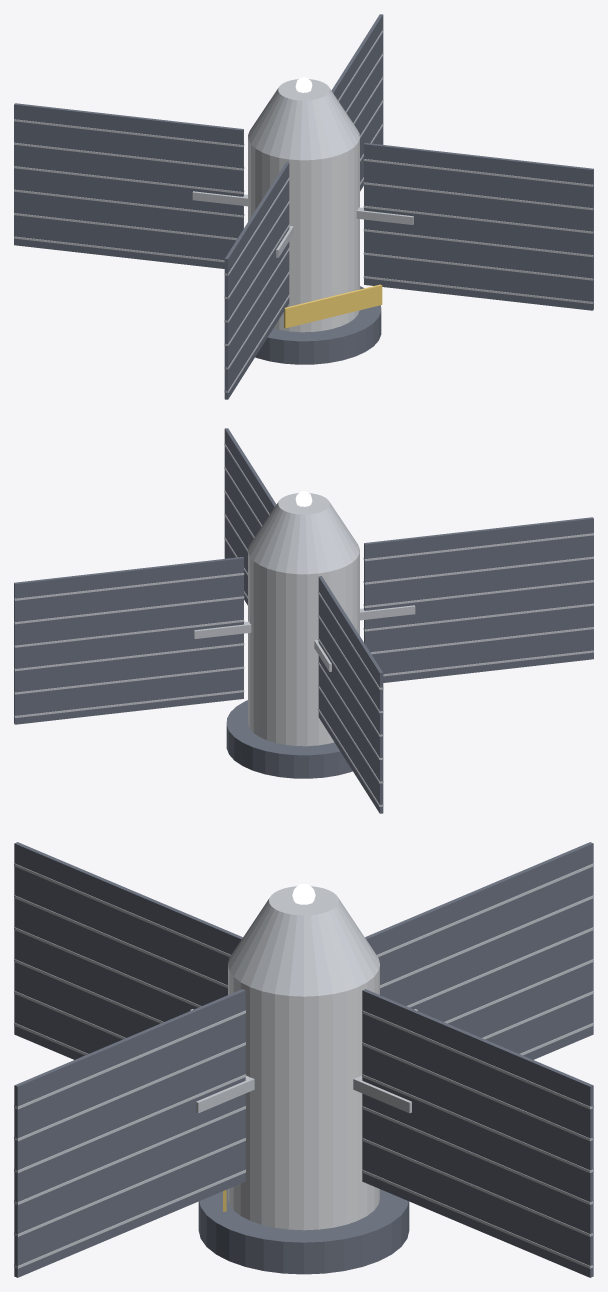
The model's file is reactor__reactor.fbx.
The picture shows the model from 3 angles, top to bottom: view 1: azimuth 30°, elevation 25°; view 2: azimuth 150°, elevation 25°; view 3: azimuth 270°, elevation 25°; orthographic projection. The views are drawn at different scales.
Parts seen in each view (by area): view 1: reactor__reactor; view 2: reactor__reactor; view 3: reactor__reactor.
Part boxes in pixels (left/top/right/bottom): reactor__reactor: left=14, top=14, right=593, bottom=399; reactor__reactor: left=14, top=428, right=593, bottom=813; reactor__reactor: left=14, top=842, right=593, bottom=1277.
Size of the model in its own units: 9.9 by 6.5 by 9.9.
